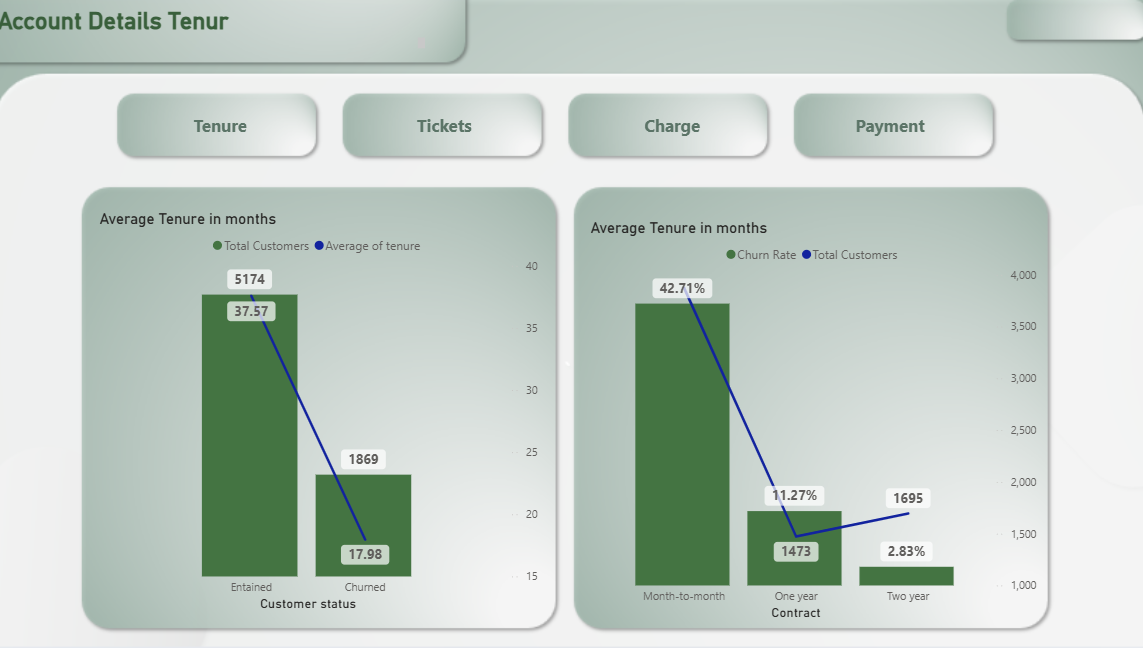

What the dashboard file says about the page in this screenshot:
{"tool":"powerbi","page":{"name":"Account Details Tenur","canvas":[1280,720],"ordinal":1},"visuals":[{"type":"textbox","title":"Account Details Tenur","box":[0,7.1,484.8,52.4],"z":0},{"type":"lineClusteredColumnComboChart","title":"Average Tenure in months","fields":{"Category":["01 Churn-Dataset.Customer status"],"Y":["KPIS Measures.Total Customers"],"Y2":["Avg(01 Churn-Dataset.tenure)"]},"box":[112.9,232.8,496.9,450.5],"z":1000},{"type":"lineClusteredColumnComboChart","title":"Average Tenure in months","fields":{"Category":["01 Churn-Dataset.Contract"],"Y":["KPIS Measures.Churn Rate"],"Y2":["KPIS Measures.Total Customers"]},"box":[659.1,242.9,506,450.5],"z":2000},{"type":"actionButton","box":[416.3,114.9,169.3,48.4],"z":3000},{"type":"actionButton","box":[670.2,114.9,169.3,48.4],"z":4000},{"type":"actionButton","box":[912.1,114.9,169.3,48.4],"z":5000},{"type":"actionButton","box":[168.3,114.9,169.3,48.4],"z":6000}]}

Visuals, with their boxes in screenshot pixels (x1, y1, x2, y2), scaled from the page's 1280x720 canvas onto the 1143x648 screenshot:
"Account Details Tenur" textbox: bbox(0, 6, 433, 54)
"Average Tenure in months" lineClusteredColumnComboChart: bbox(101, 210, 545, 615)
"Average Tenure in months" lineClusteredColumnComboChart: bbox(589, 219, 1040, 624)
actionButton: bbox(372, 103, 523, 147)
actionButton: bbox(598, 103, 750, 147)
actionButton: bbox(814, 103, 966, 147)
actionButton: bbox(150, 103, 301, 147)
